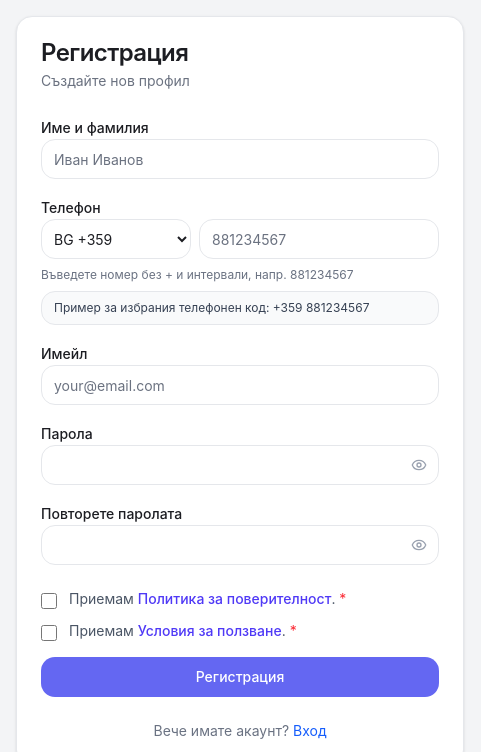
Bulgarian registration › allows a Bulgarian-language user to choose a different country code
Select "GB +44" in the dropdown named "Телефонен код на държавата": (116, 239) [41,219,191,259]
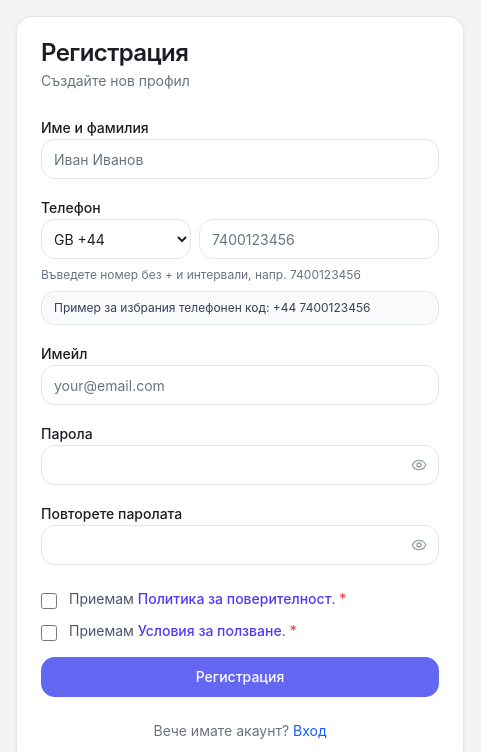
Expected: the heading "Регистрация" is shown, [41,38,188,67]
Expected: the text "Пример за избрания телефонен код: +44 7400123456" is shown, [41,291,439,325]
